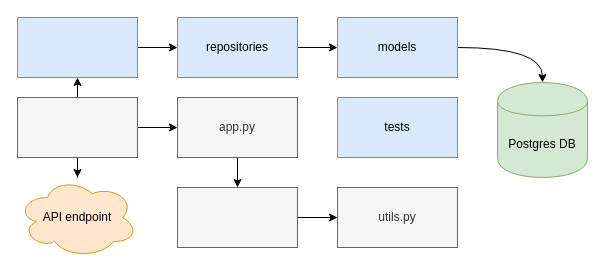
This 605x275 diagram has some shape labels left out. The centre of each missing label's shape, as x and y in pixels:
config.py: pixel 237 217
main.py: pixel 77 127
resources: pixel 77 47
